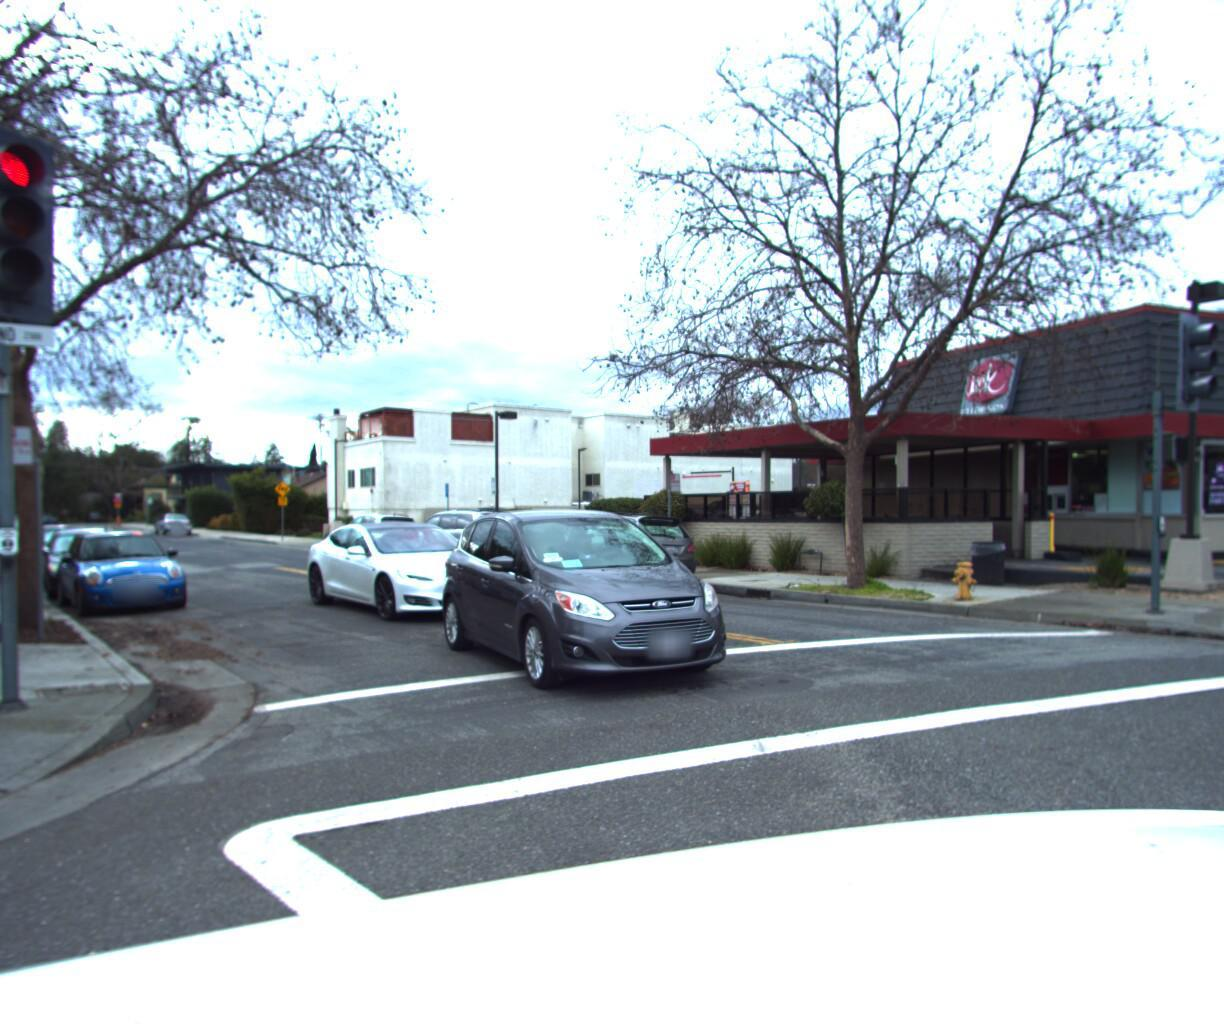car: (413, 502, 782, 714), (297, 510, 539, 633), (530, 502, 717, 594), (50, 517, 193, 614), (399, 500, 540, 569), (35, 515, 145, 597), (10, 514, 102, 569), (331, 504, 428, 554), (151, 499, 197, 526)
